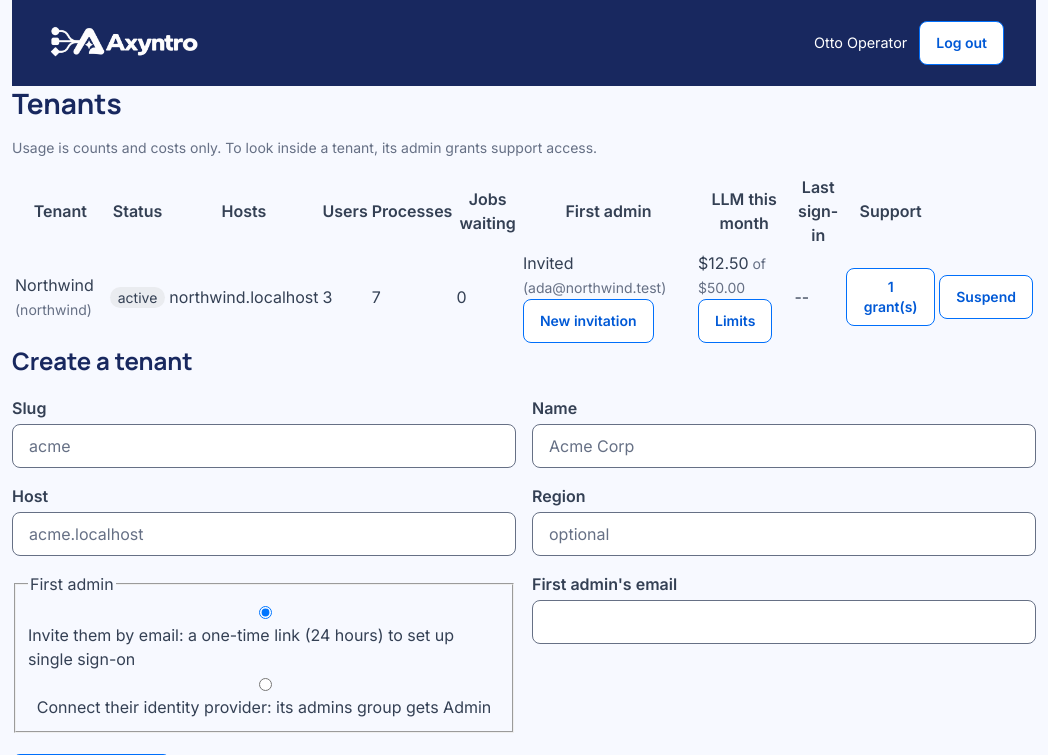
it: Operator console (Epic 38, US38.8) › sends a new invitation while the first admin has not joined
What coordinates should you click on to do the following:
click the button "New invitation"
I would click on:
 (588, 321)
Its box is [523,299,654,343].
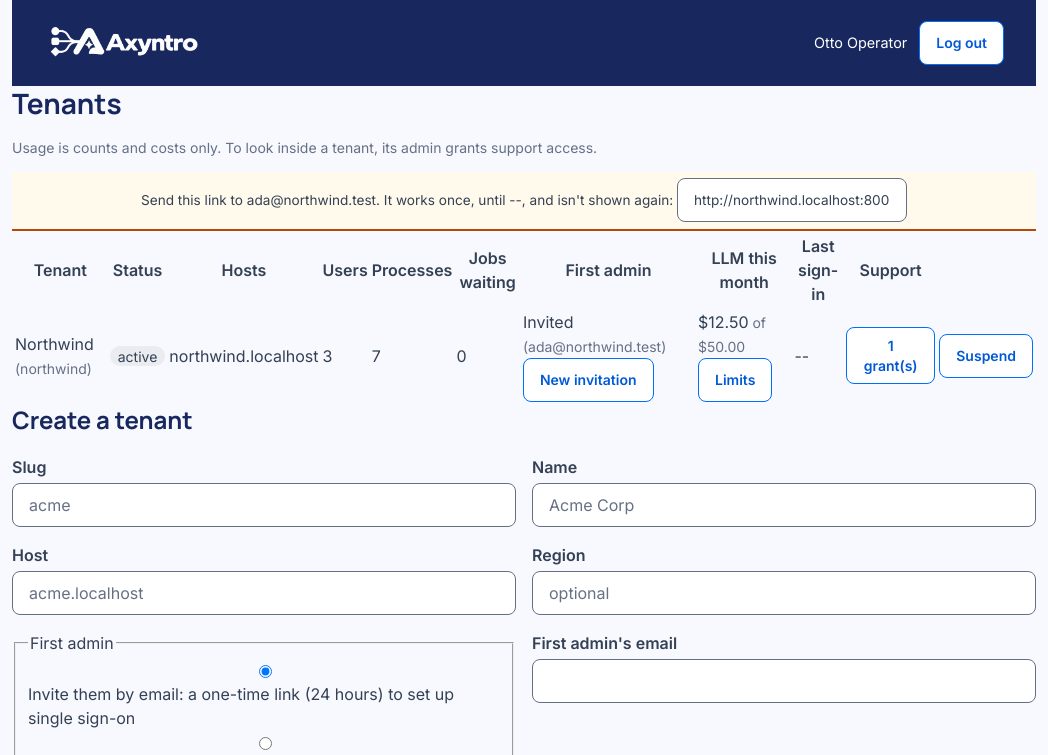
Result: the field named "Invitation URL" holds "http://northwind.localhost:8000/api/auth/invitation/accept?token=t2" at [677,178,907,222]
